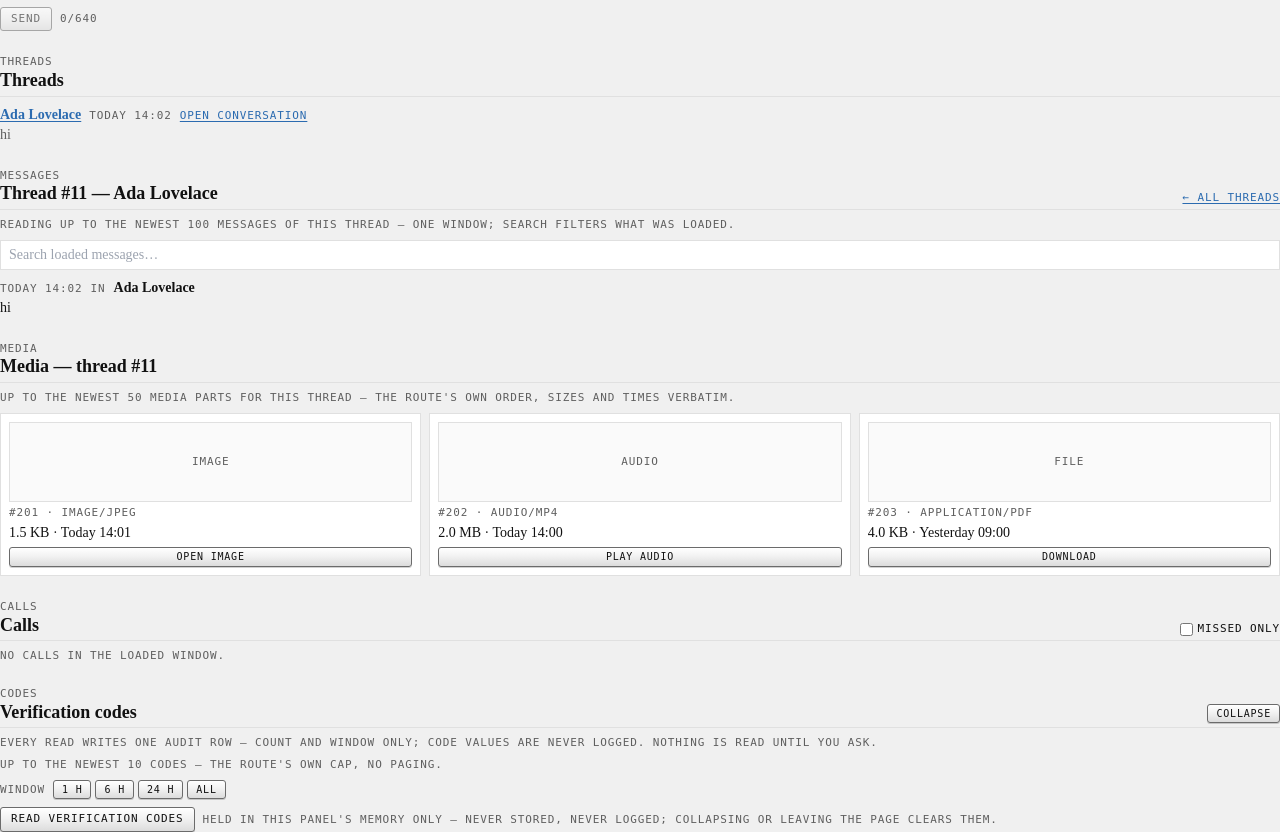
it: phone media viewer (frozen GET /phone/media/{part_id}) › a 503 on one part renders the page's PHONE LINK UNAVAILABLE block for that part
(page scrolled)
Expected: the list with test id "phone-media-list" is shown, [0, 413, 1279, 576]
Click the button with aria-label "Open image part #201": x=211, y=557 [9, 547, 412, 567]
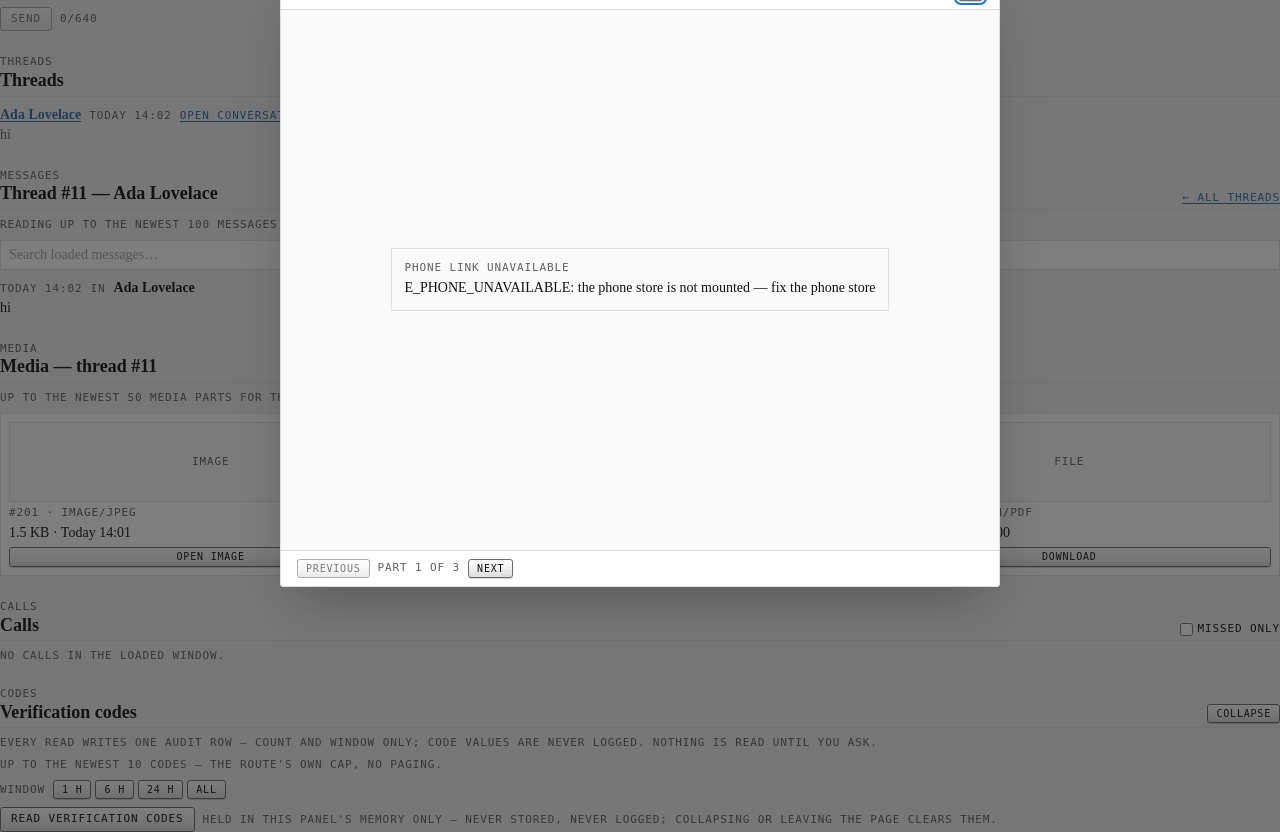
Expected: the element with test id "phone-media-part-unavailable" shows "PHONE LINK UNAVAILABLE", [404, 261, 570, 274]
Expected: the element with test id "phone-media-part-unavailable" shows "E_PHONE_UNAVAILABLE", [404, 280, 876, 295]
